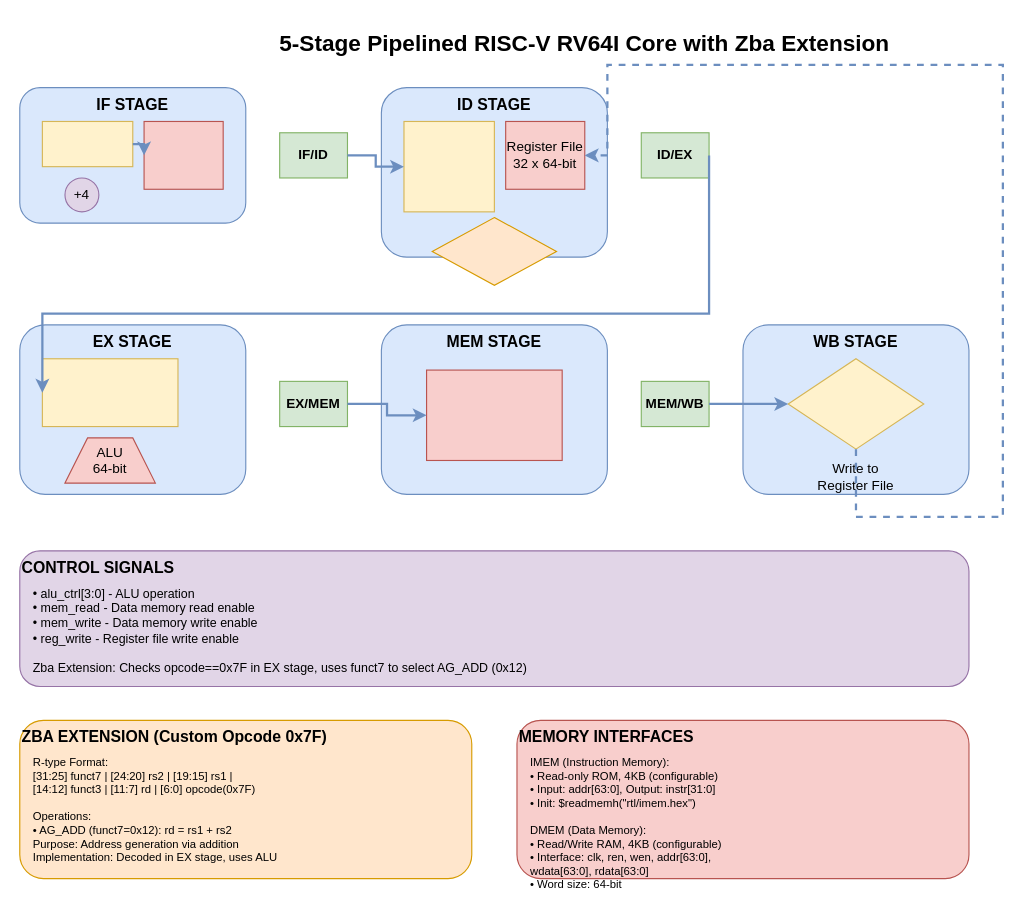
The diagram is 1033 pixels wide and 911 high, and some of its shapes have lost their labels. The shapes that lost their labels are listed below. From the top down, each one's centre as x and y in pixels, then its label:
the point at 87,143: PC (Program Counter)
the point at 183,154: IMEM (ROM)
the point at 448,166: Decoder - opcode - funct3/7 - imm gen
the point at 494,250: Zba Check: opcode==0x7F?
the point at 109,392: ALU Control (Zba: funct7=0x12) (RV64I: opcode)
the point at 855,403: MUX (select load or alu_out)
the point at 493,414: DMEM (RAM) 64-bit words
